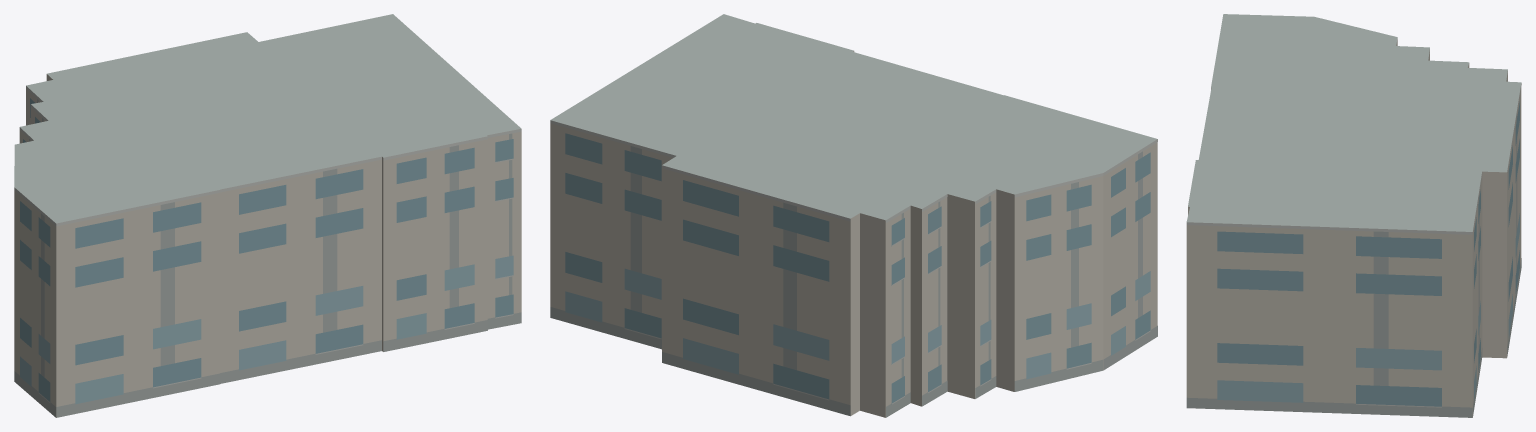
File: survey-upis-32841552.glb
3 renders of one model, left to right at view 1: azimuth 30°, elevation 25°; view 2: azimuth 150°, elevation 25°; view 3: azimuth 270°, elevation 25°, orthographic. The views are drawn at different scales.
Parts seen in each view (by area): view 1: survey-upis-32841552.tmp; view 2: survey-upis-32841552.tmp; view 3: survey-upis-32841552.tmp.
Part boxes in pixels (x1=…): survey-upis-32841552.tmp: x1=14, y1=14, x2=521, y2=417; survey-upis-32841552.tmp: x1=550, y1=14, x2=1157, y2=417; survey-upis-32841552.tmp: x1=1186, y1=14, x2=1521, y2=417.
Size of the model in its own units: 40.38 by 16.05 by 26.22.
